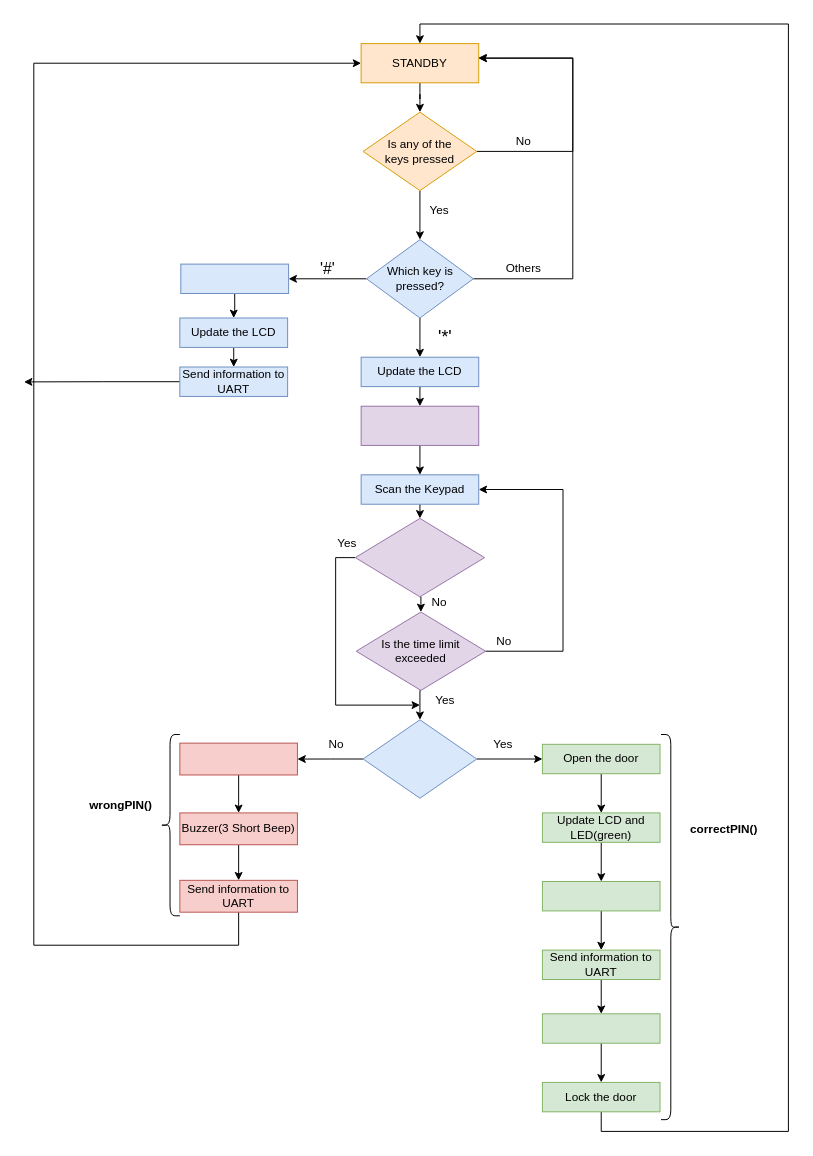
The diagram is 813 pixels wide and 1156 high, and some of its shapes have lost their labels. The centre of each missing label's shape, as x and y in pixels:
Buzzer(Long Beep): point 600,896
Is all 4-digit entered: point 419,557
Is the PIN correct?: point 419,758
Ring the doorbell: point 234,278
Start the timer for 5sec: point 419,425
Update LCD and LED(red): point 238,758
Wait 4 seconds: point 600,1028
